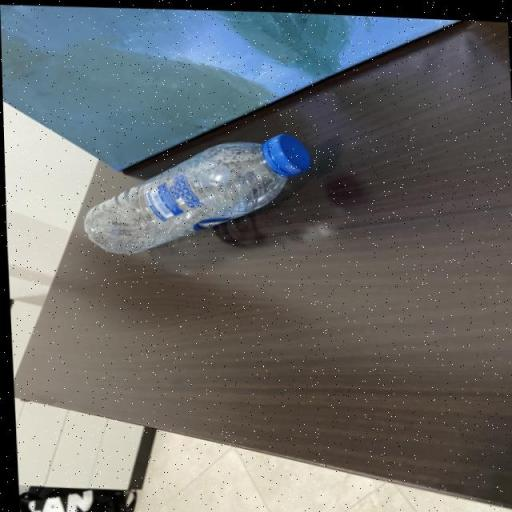plastic: (81, 131, 309, 256)
